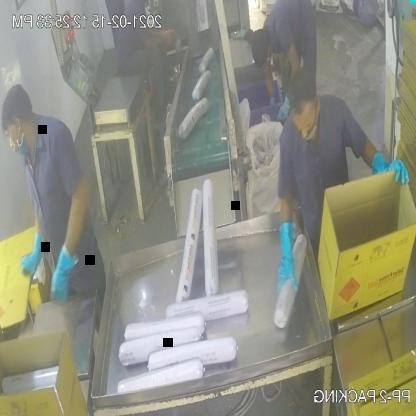glove: (46, 231, 79, 309), (272, 212, 301, 300), (368, 144, 411, 193)
no_glove: (132, 26, 180, 57)
